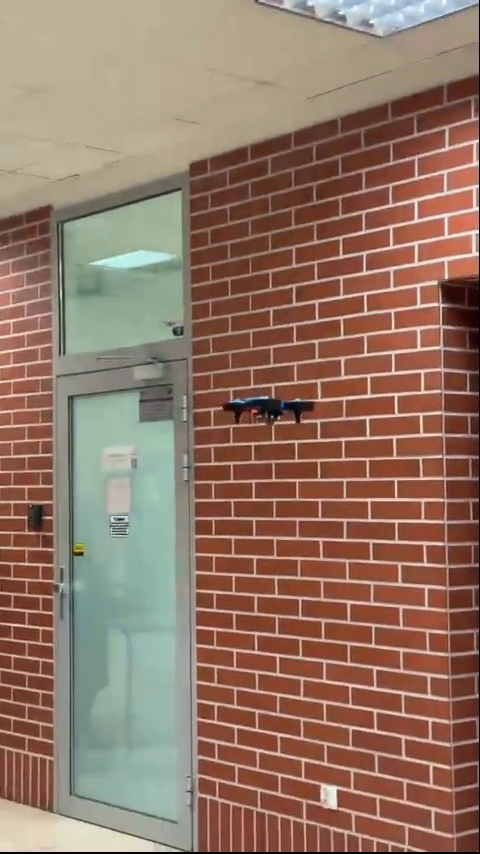drone: (223, 390, 316, 425)
